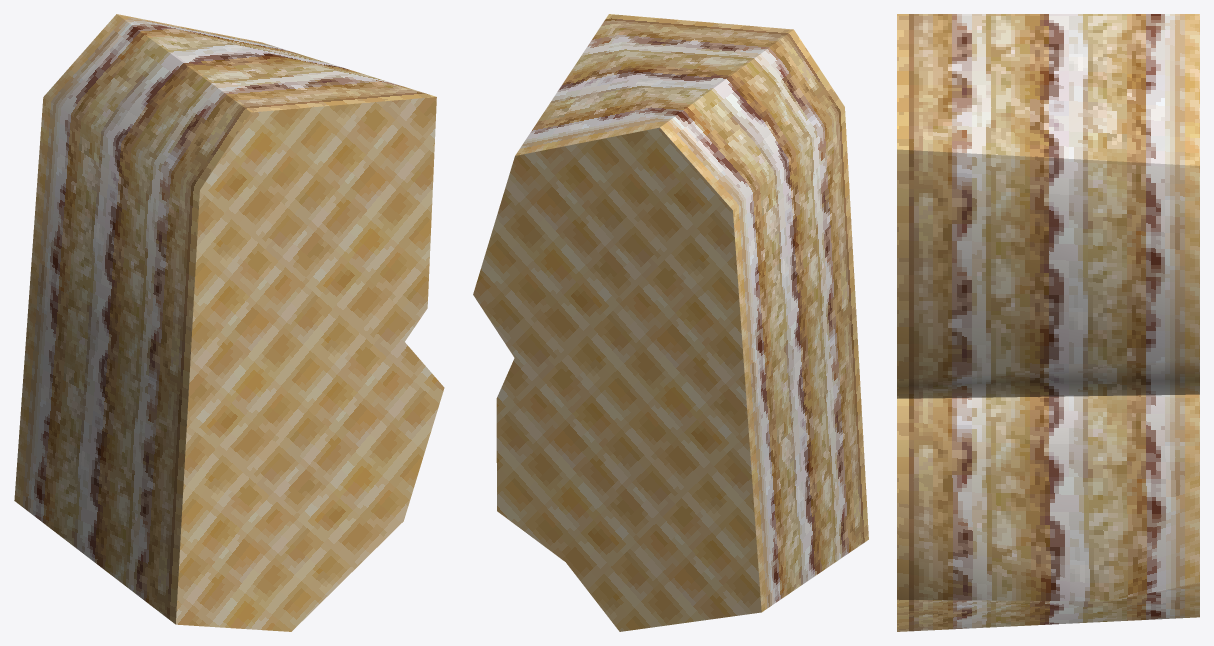
Rendered from stg200_obj_wafer_bp1.obj.
3 views of the same model, side by side, from view 1: azimuth 30°, elevation 25°; view 2: azimuth 150°, elevation 25°; view 3: azimuth 270°, elevation 25° (orthographic). The views are drawn at different scales.
Visible parts, largest first — view 1: polygon1, polygon0; view 2: polygon1, polygon0; view 3: polygon0.
Part boxes in pixels (<box>): polygon1: <box>176,97,444,631</box>; polygon0: <box>14,14,436,624</box>; polygon1: <box>473,127,761,631</box>; polygon0: <box>515,14,868,611</box>; polygon0: <box>897,14,1199,631</box>.
Size of the model in its own units: 7.17 by 12.27 by 5.65.
2 materials, 2 textured.
